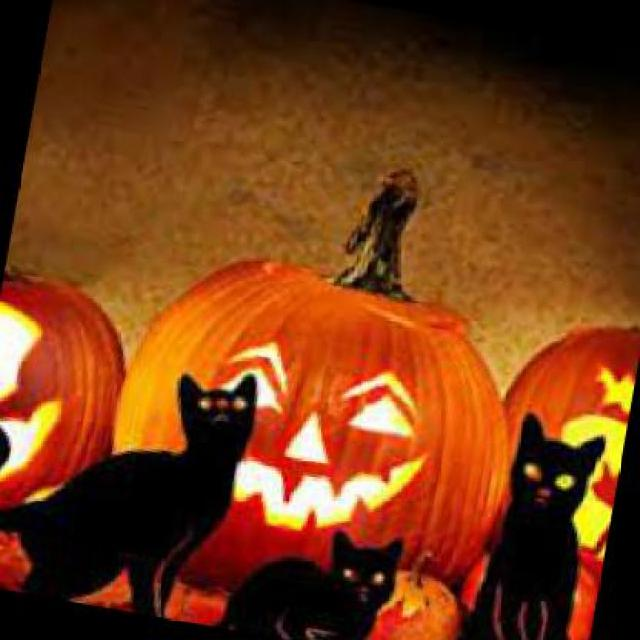animals: (0, 328, 274, 628), (398, 392, 624, 638), (212, 503, 431, 639)
